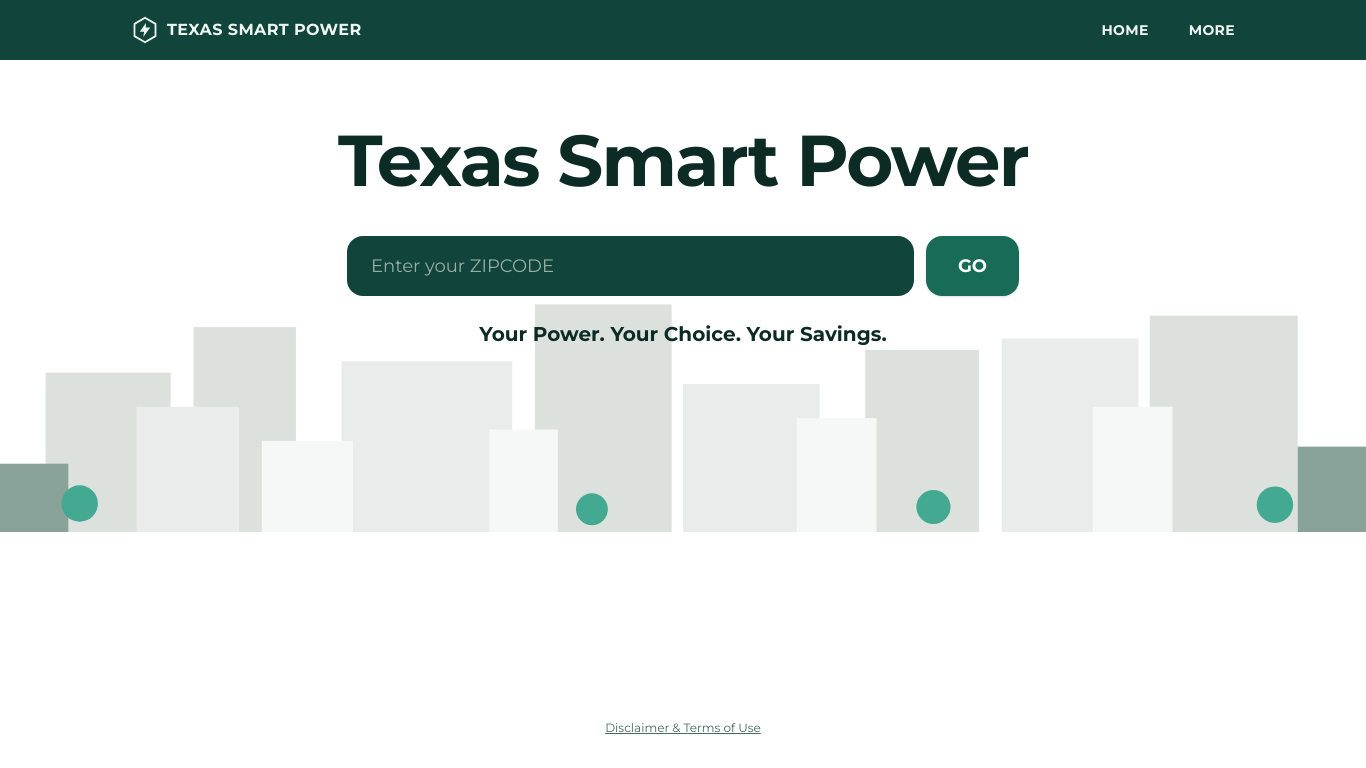
it: ZIP with no match shows the not-found message
Type "99999" into the field named "zip code".
click(630, 266); type("99999")  # box [347, 236, 914, 296]
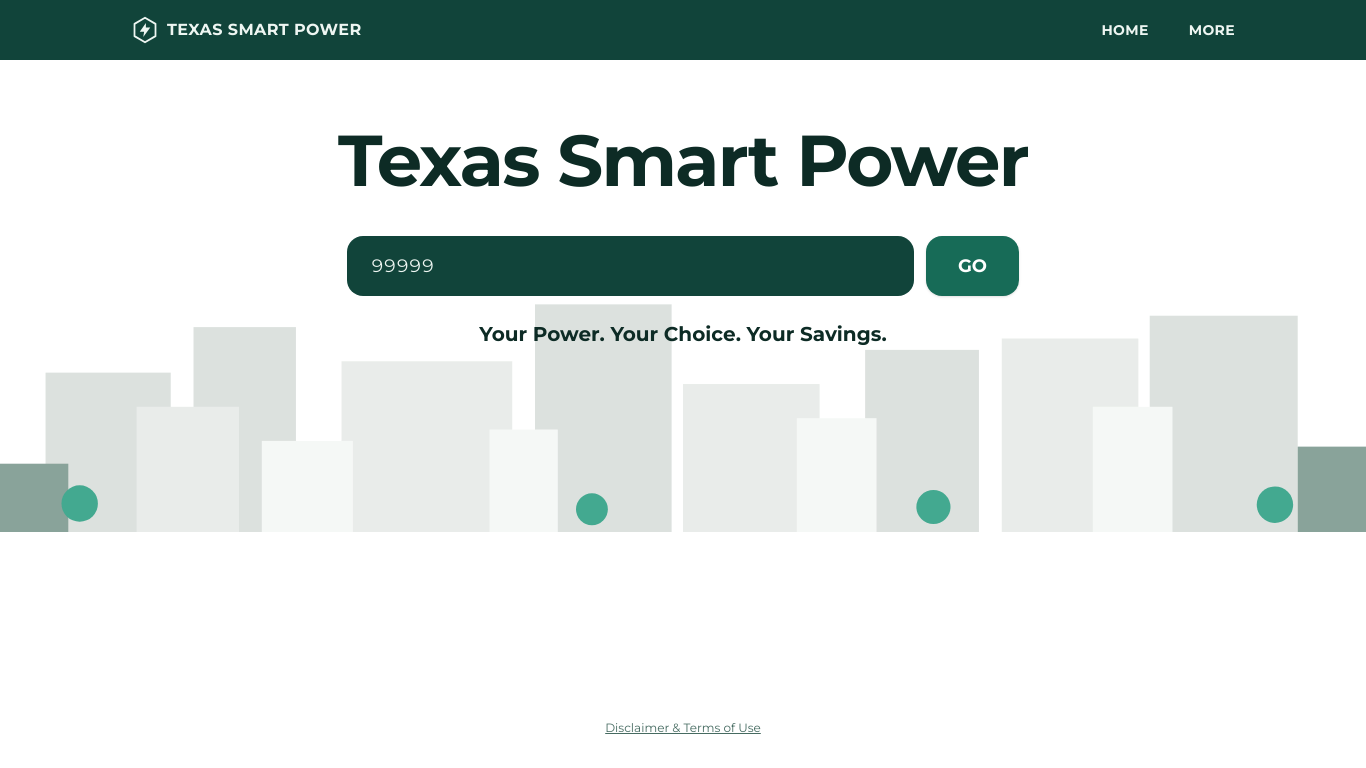
Click the button "GO".
click(972, 266)  # box [926, 236, 1019, 296]
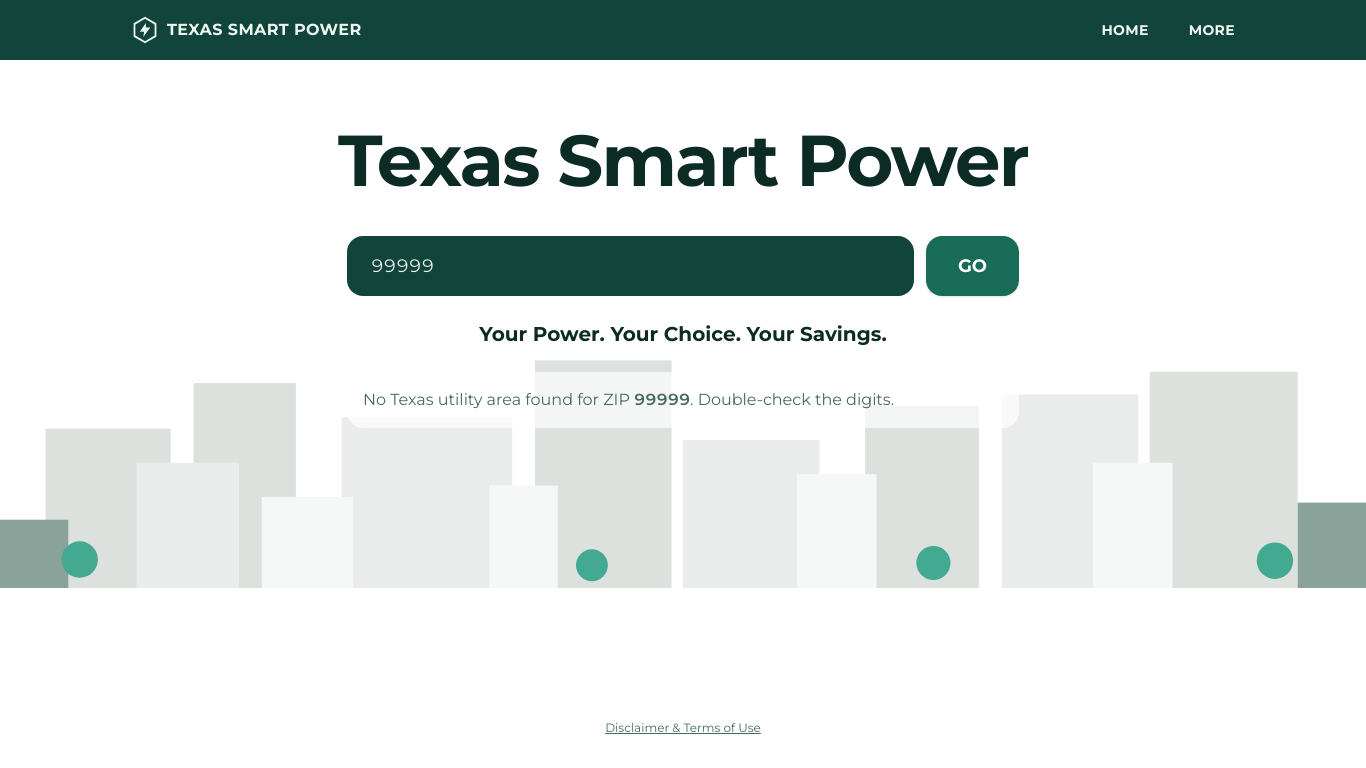
Expected: the text "No Texas utility area found for ZIP" is shown, [363, 390, 630, 409]
